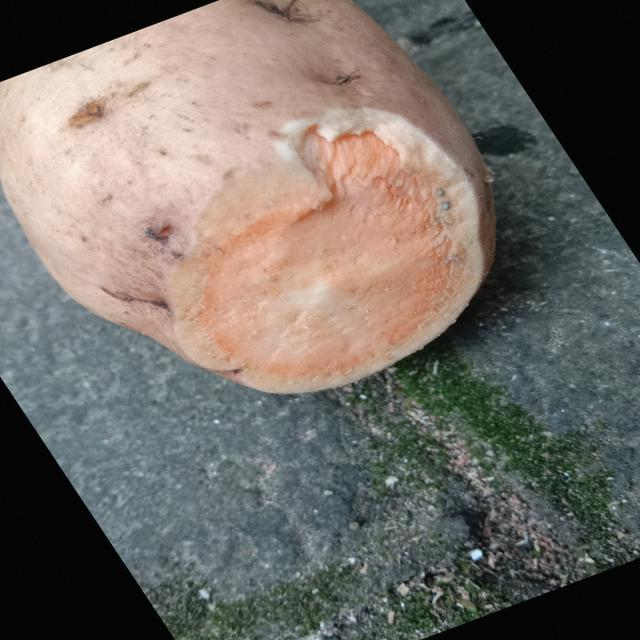Healthy Sweet Potato: (170, 109, 493, 392)
